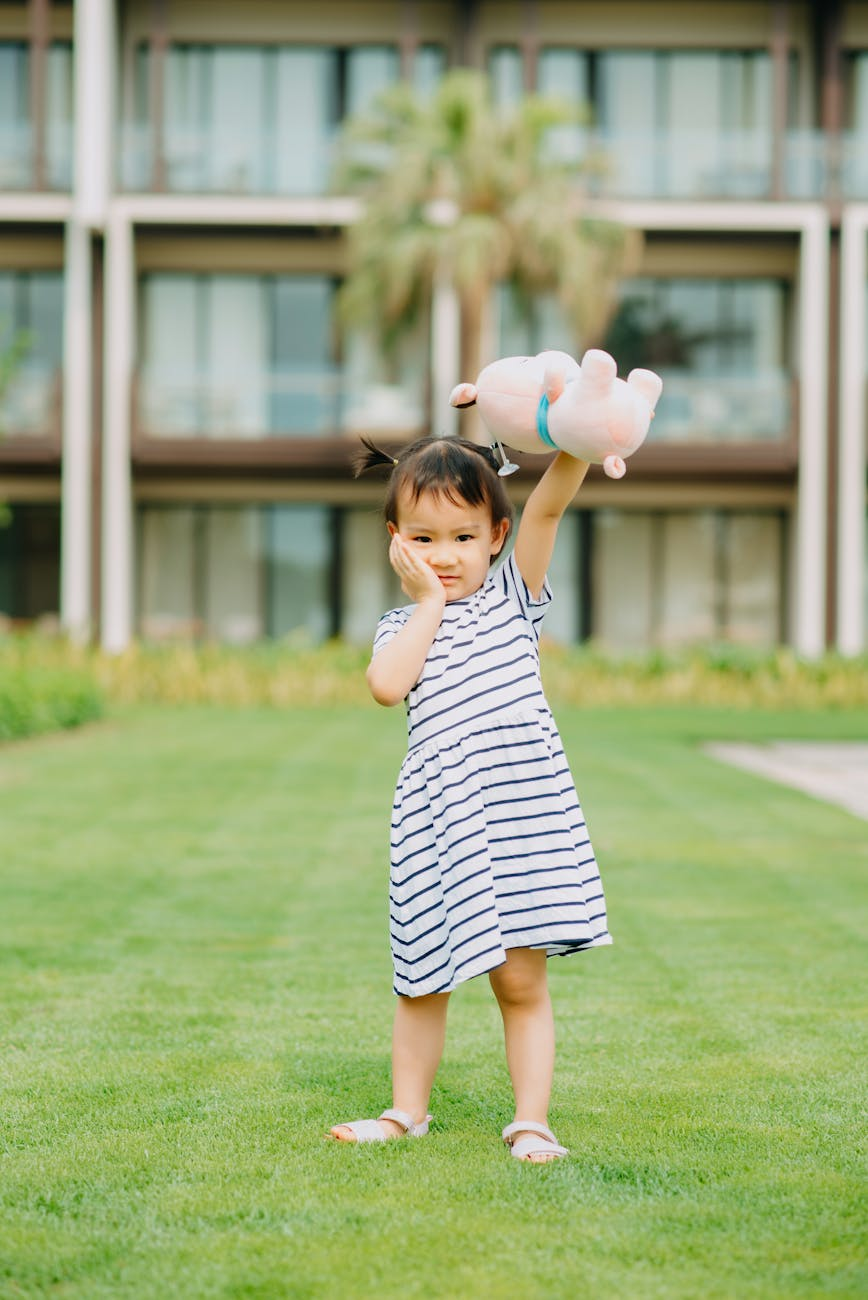opened_foot: (316, 1099, 435, 1150), (492, 1115, 567, 1172)
short_medium_skirt: (366, 757, 620, 999)
